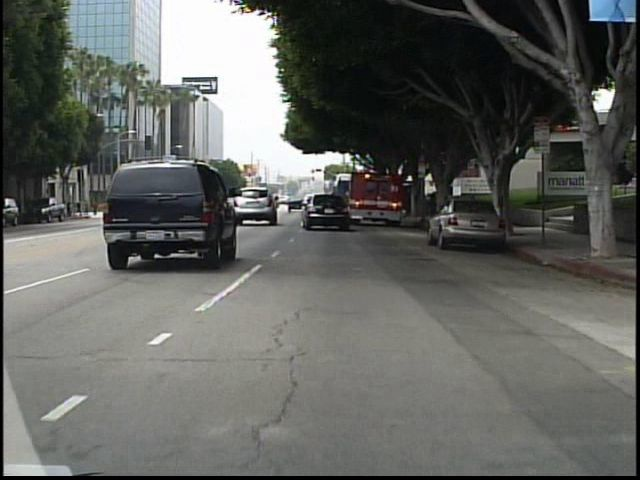person: (91, 197, 104, 218)
